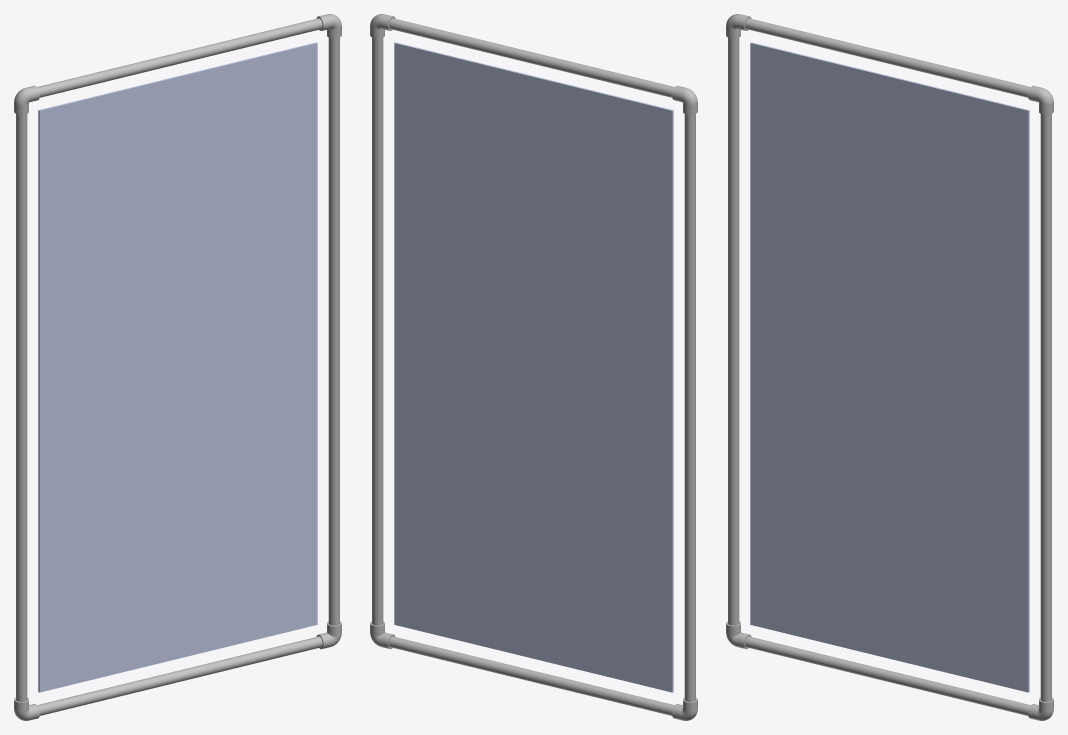
The model's file is torpedoes2023-2x4.fbx.
3 renders of one model, left to right at view 1: azimuth 30°, elevation 25°; view 2: azimuth 150°, elevation 25°; view 3: azimuth 330°, elevation 25°, orthographic.
Parts seen in each view (by area): view 1: Body_1_4, Body_1_7, Body_1, Body_1_9, Body_1_5; view 2: Body_1_4, Body_1_7, Body_1, Body_1_5, Body_1_9; view 3: Body_1_4, Body_1, Body_1_7, Body_1_9, Body_1_5.
Boxes of the visible parts, bbox=[...] form: Body_1_4: bbox=[38, 42, 317, 692]; Body_1_7: bbox=[328, 37, 339, 625]; Body_1: bbox=[16, 114, 27, 701]; Body_1_9: bbox=[37, 636, 322, 715]; Body_1_5: bbox=[37, 18, 322, 97]; Body_1_4: bbox=[394, 42, 673, 692]; Body_1_7: bbox=[372, 37, 383, 625]; Body_1: bbox=[684, 114, 695, 701]; Body_1_5: bbox=[389, 18, 674, 97]; Body_1_9: bbox=[389, 636, 674, 715]; Body_1_4: bbox=[750, 42, 1029, 692]; Body_1: bbox=[728, 37, 739, 625]; Body_1_7: bbox=[1040, 114, 1051, 701]; Body_1_9: bbox=[745, 636, 1030, 715]; Body_1_5: bbox=[745, 18, 1030, 97].
Bounding box in the file's own units: 0.7144 × 0.0286 × 1.32.
